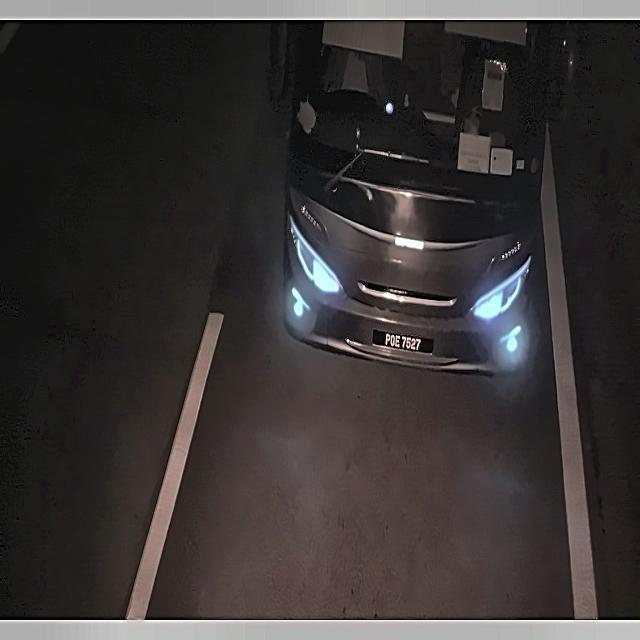car: (367, 321, 444, 363)
